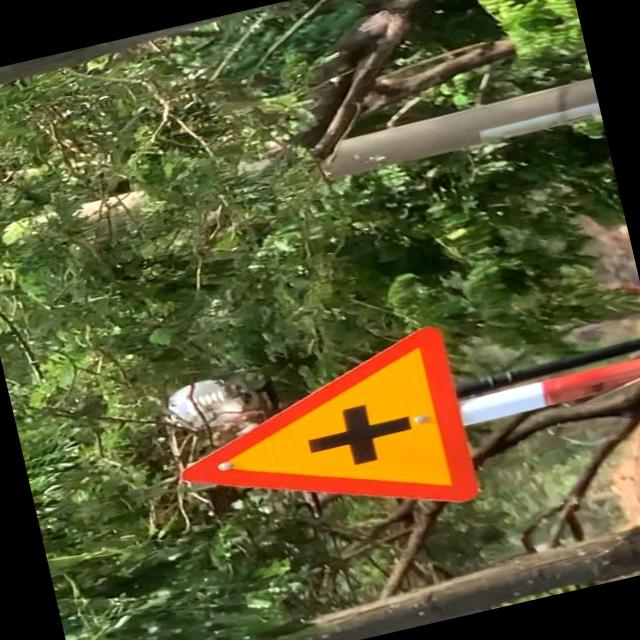W-205a: (159, 320, 482, 563)
